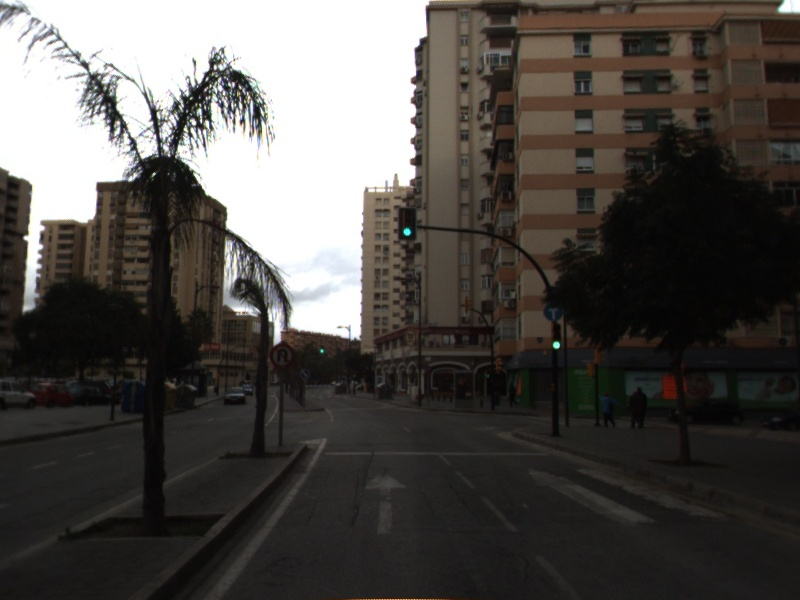STRAIGHT: (362, 467, 410, 536)
